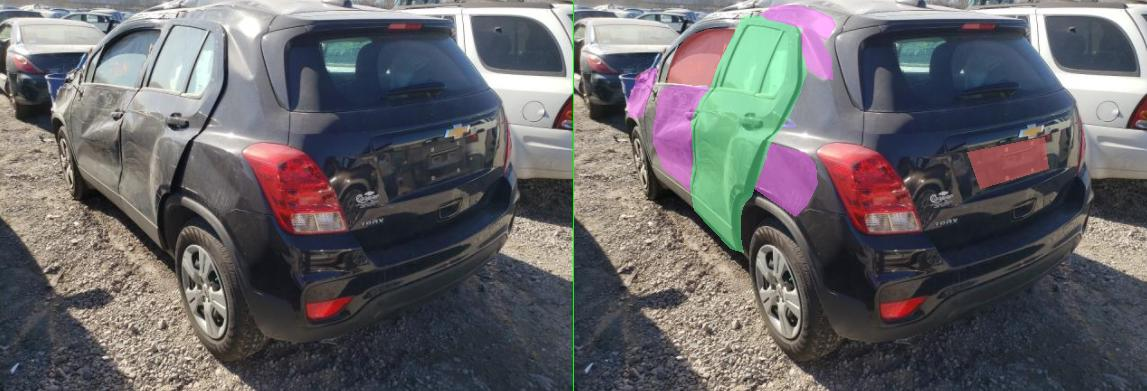Broken part: (232, 15, 464, 252)
Dent: (158, 85, 278, 191), (360, 143, 486, 216), (374, 5, 522, 40), (454, 27, 516, 79), (106, 67, 166, 118)
Missing part: (787, 137, 949, 188), (184, 29, 324, 85), (122, 73, 150, 89)
Scratch: (236, 99, 402, 225), (254, 110, 314, 117), (360, 185, 396, 194), (422, 116, 444, 127), (396, 111, 416, 118), (378, 155, 392, 162), (414, 124, 438, 127), (310, 156, 320, 160), (342, 165, 352, 168)
